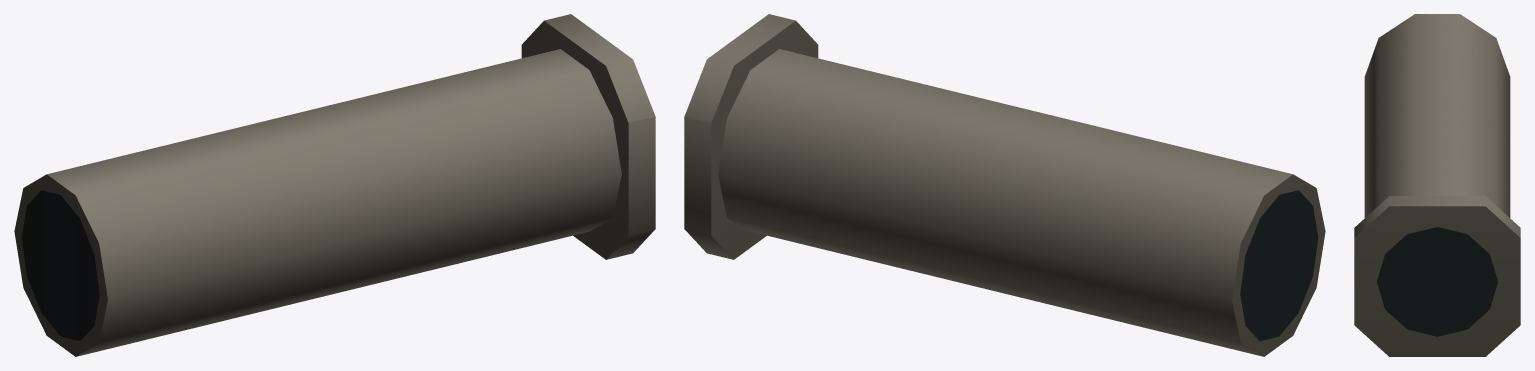
File: Pipe_1D.fbx
3 renders of one model, left to right at view 1: azimuth 30°, elevation 25°; view 2: azimuth 150°, elevation 25°; view 3: azimuth 270°, elevation 25°, orthographic. The views are drawn at different scales.
Visible parts, largest first — view 1: Pipe_1D; view 2: Pipe_1D; view 3: Pipe_1D.
Boxes of the visible parts, box(x1,y1,x2,y2) form: Pipe_1D: box(14, 14, 655, 356); Pipe_1D: box(684, 14, 1325, 356); Pipe_1D: box(1354, 14, 1520, 356).
Bounding box in the file's own units: 4.01 × 1.37 × 1.37.
